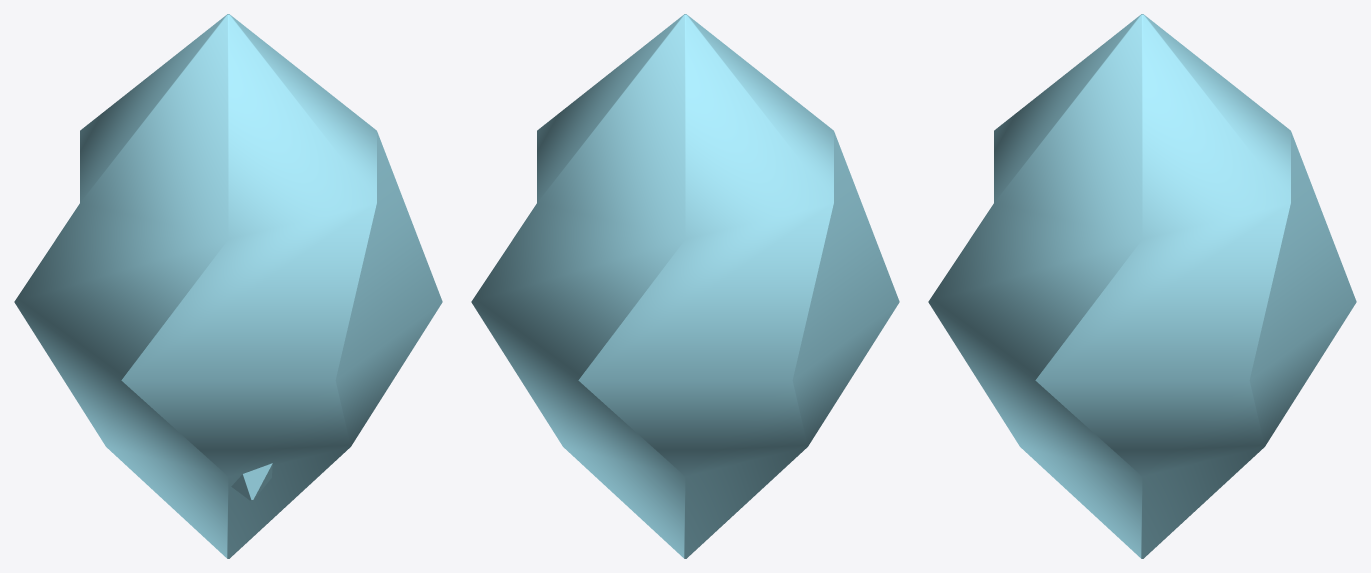
File: Vault_Crystal.fbx
3 views of the same model, side by side, from view 1: azimuth 30°, elevation 25°; view 2: azimuth 150°, elevation 25°; view 3: azimuth 270°, elevation 25° (orthographic).
Parts seen in each view (by area): view 1: Vault_Crystal_LOD0; view 2: Vault_Crystal_LOD0; view 3: Vault_Crystal_LOD0.
Boxes of the visible parts, x1,y1,x2,y2 form: Vault_Crystal_LOD0: [14, 14, 442, 558]; Vault_Crystal_LOD0: [471, 14, 899, 558]; Vault_Crystal_LOD0: [928, 14, 1356, 558].
Size of what is drawn, in the model's own units: 0.433 by 0.7 by 0.5.
